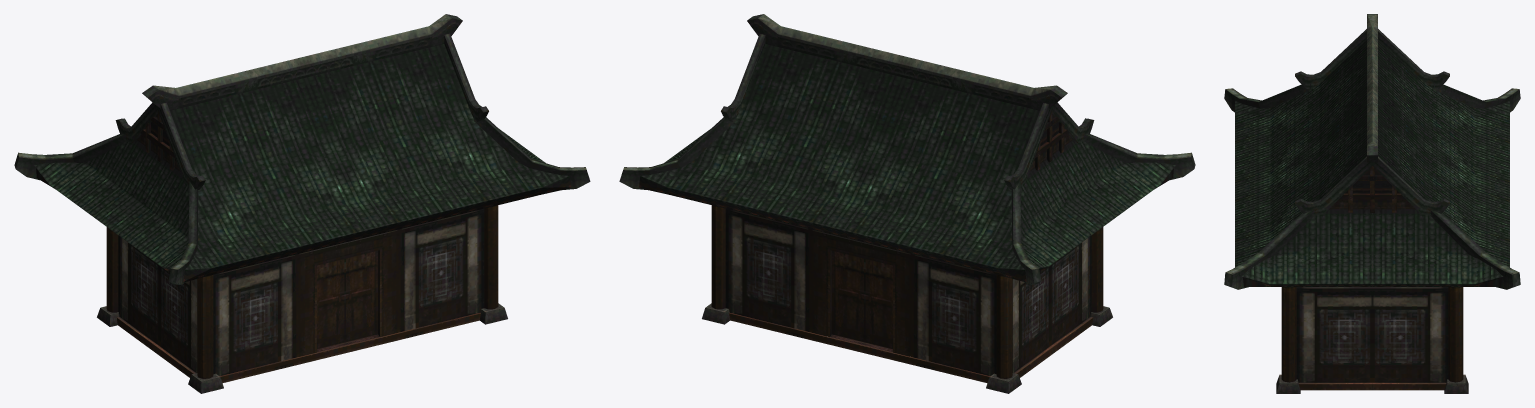
Rendered from c1-016-house9_01.fbx.
The picture shows the model from 3 angles, left to right: view 1: azimuth 30°, elevation 25°; view 2: azimuth 150°, elevation 25°; view 3: azimuth 270°, elevation 25°; orthographic projection. The views are drawn at different scales.
Visible parts, largest first — view 1: c1-016-house9; view 2: c1-016-house9; view 3: c1-016-house9.
Boxes of the visible parts, x1,y1,x2,y2 form: c1-016-house9: (14,14,590,393); c1-016-house9: (619,14,1195,393); c1-016-house9: (1224,14,1520,393).
Size of the model in its own units: 11.71 by 7.08 by 7.76.
